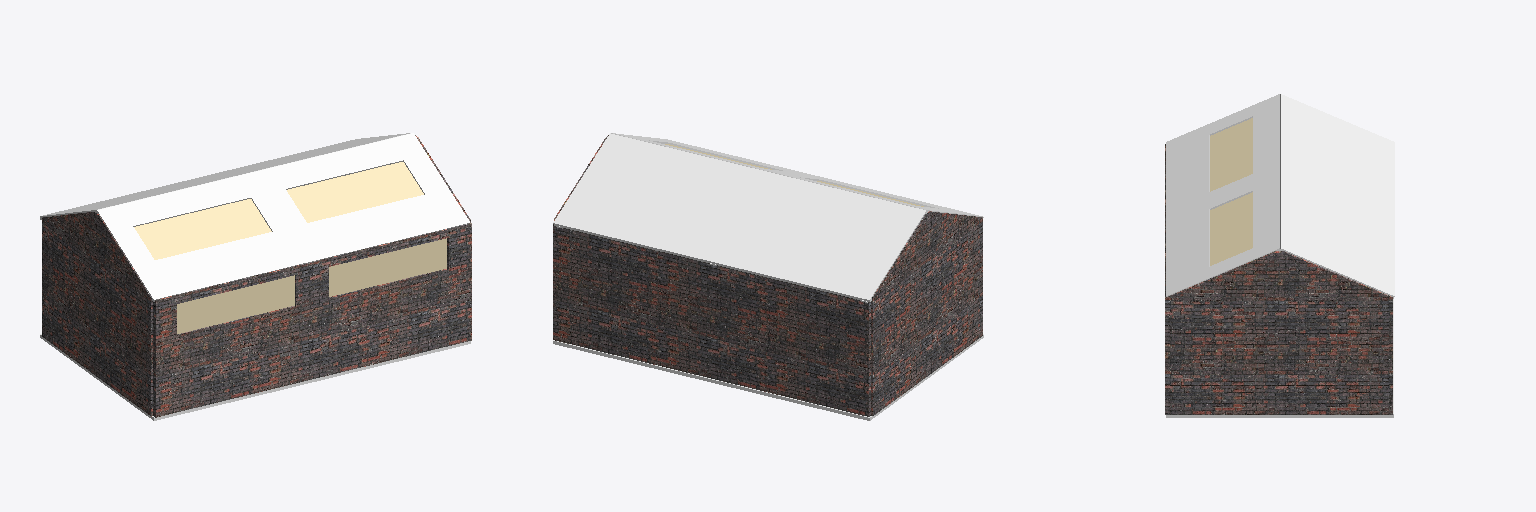
The picture shows the model from 3 angles: view 1: azimuth 30°, elevation 25°; view 2: azimuth 150°, elevation 25°; view 3: azimuth 270°, elevation 25°; orthographic projection.
Parts seen in each view (by area): view 1: Box003, Box006, Plane002, Plane001, Plane004, Plane003, Box007, Box001; view 2: Box003, Box007, Box006, Box001; view 3: Box003, Box007, Box006, Plane002, Plane001, Box001.
Part boxes in pixels (x1,y1,x2,y2): Box003: (42,135,471,417); Box006: (97,133,469,301); Plane002: (134,199,271,259); Plane001: (287,162,423,222); Plane004: (329,238,446,296); Plane003: (177,275,294,333); Box007: (40,133,410,219); Box001: (40,334,470,420); Box003: (553,135,982,416); Box007: (553,133,926,301); Box006: (611,133,983,217); Box001: (553,334,983,420); Box003: (1165,144,1392,414); Box007: (1280,94,1394,298); Box006: (1166,94,1280,296); Plane002: (1210,118,1252,191); Plane001: (1210,192,1252,265); Box001: (1166,299,1393,417).
Bounding box in the file's own units: 20.69 × 10.47 × 12.86.
Materials: 14 (1 with a texture image).